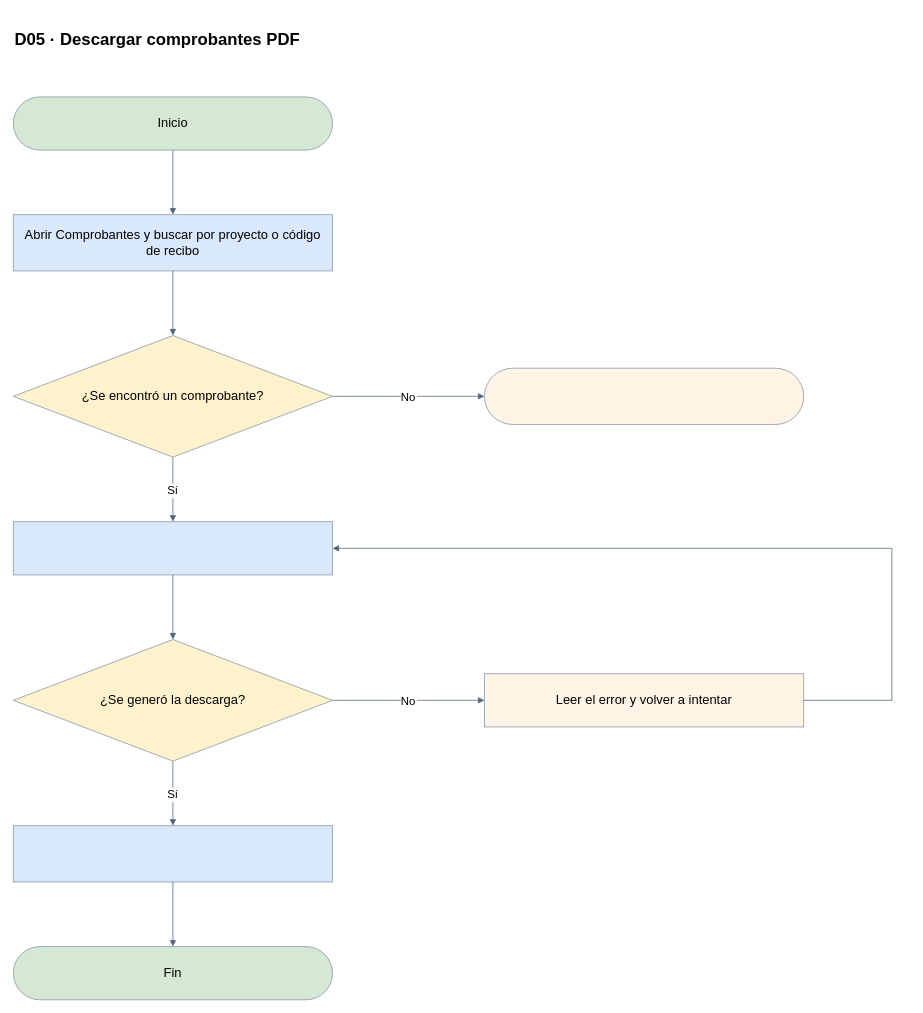
Some shapes in this 923 by 1013 pixel diagram are drawn without their labels. The shapes that lost their labels are listed below. From the top down, each one's box as (x1, y1, x2, y2) in pixels, then its label:
(484, 367, 804, 424): Limpiar la búsqueda; si no hay aportes completados, realizar uno
(13, 521, 332, 575): Pulsar Descargar PDF
(13, 825, 332, 882): Guardar o abrir el PDF desde las descargas del navegador
